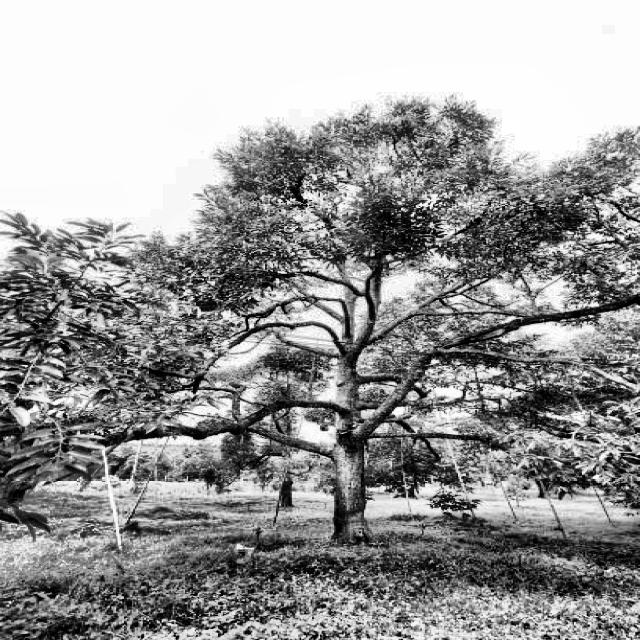arvore: (310, 321, 402, 547)
